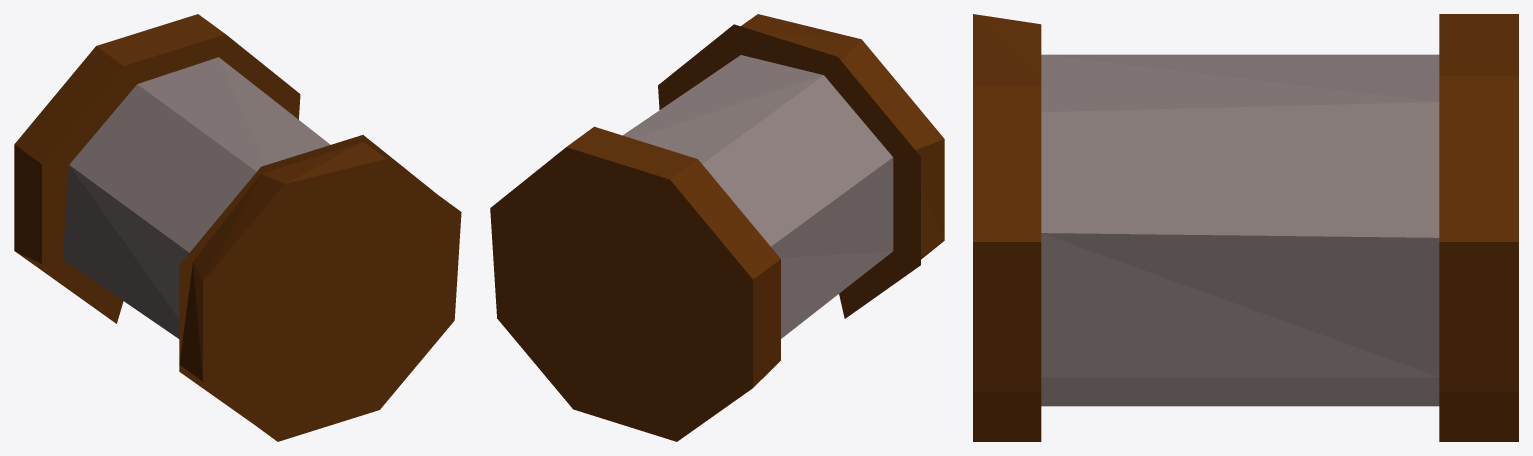
3 renders of one model, left to right at view 1: azimuth 30°, elevation 25°; view 2: azimuth 150°, elevation 25°; view 3: azimuth 270°, elevation 25°, orthographic. The views are drawn at different scales.
Visible parts, largest first — view 1: 2715; view 2: 2715; view 3: 2715.
Part boxes in pixels (x1,y1,x2,y2): 2715: [14, 14, 461, 441]; 2715: [490, 14, 944, 441]; 2715: [973, 14, 1518, 441].
Size of the model in its own units: 38 by 37 by 48.
